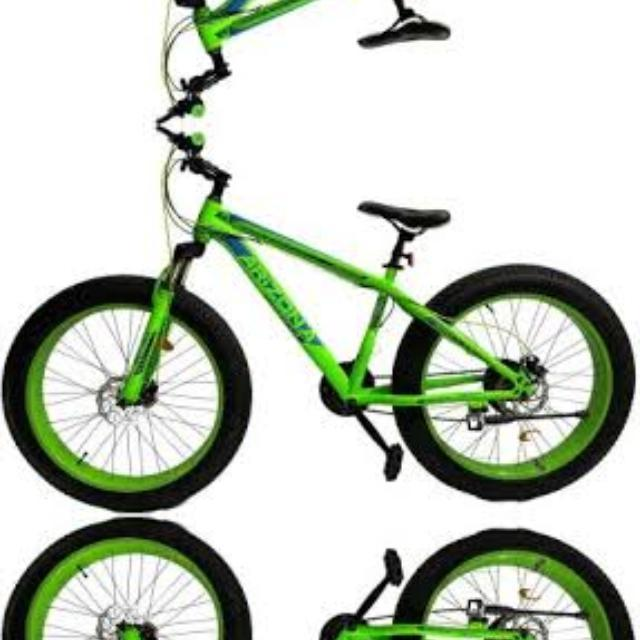obstacle: (6, 132, 640, 514), (6, 514, 640, 640), (6, 0, 640, 116)
